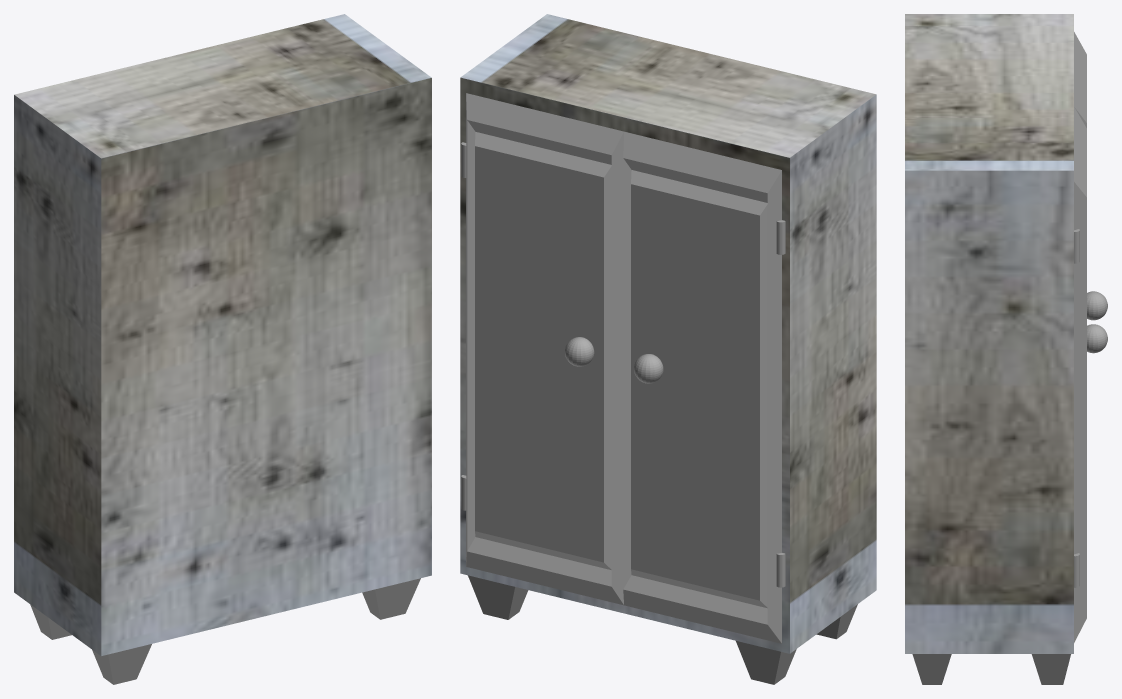
The model's file is Closet.fbx.
3 renders of one model, left to right at view 1: azimuth 30°, elevation 25°; view 2: azimuth 150°, elevation 25°; view 3: azimuth 270°, elevation 25°, orthographic. The views are drawn at different scales.
Visible parts, largest first — view 1: ClosetBase; view 2: ClosetBase, DoorR, DoorR.001; view 3: ClosetBase, DoorR.001, DoorR.
Part boxes in pixels (x1,y1,x2,y2): ClosetBase: (14, 14, 431, 684); ClosetBase: (460, 14, 876, 684); DoorR: (623, 131, 785, 643); DoorR.001: (461, 93, 623, 605); ClosetBase: (905, 14, 1073, 684); DoorR.001: (1074, 107, 1107, 642); DoorR: (1074, 32, 1107, 320).
Bounding box in the file's own units: 1.71 × 2.66 × 0.9364.
